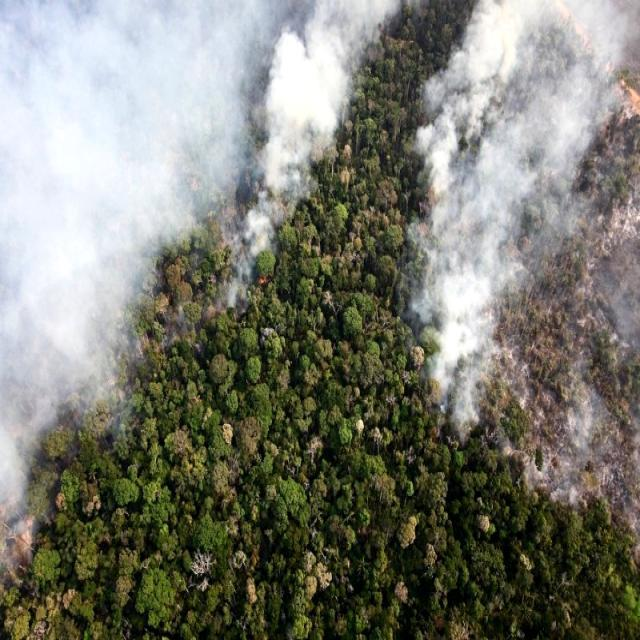Smoke: (410, 0, 640, 424), (0, 0, 216, 376), (218, 0, 359, 267)
